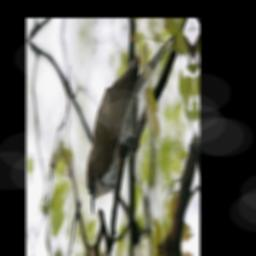Cuckoo: (82, 33, 182, 215)
